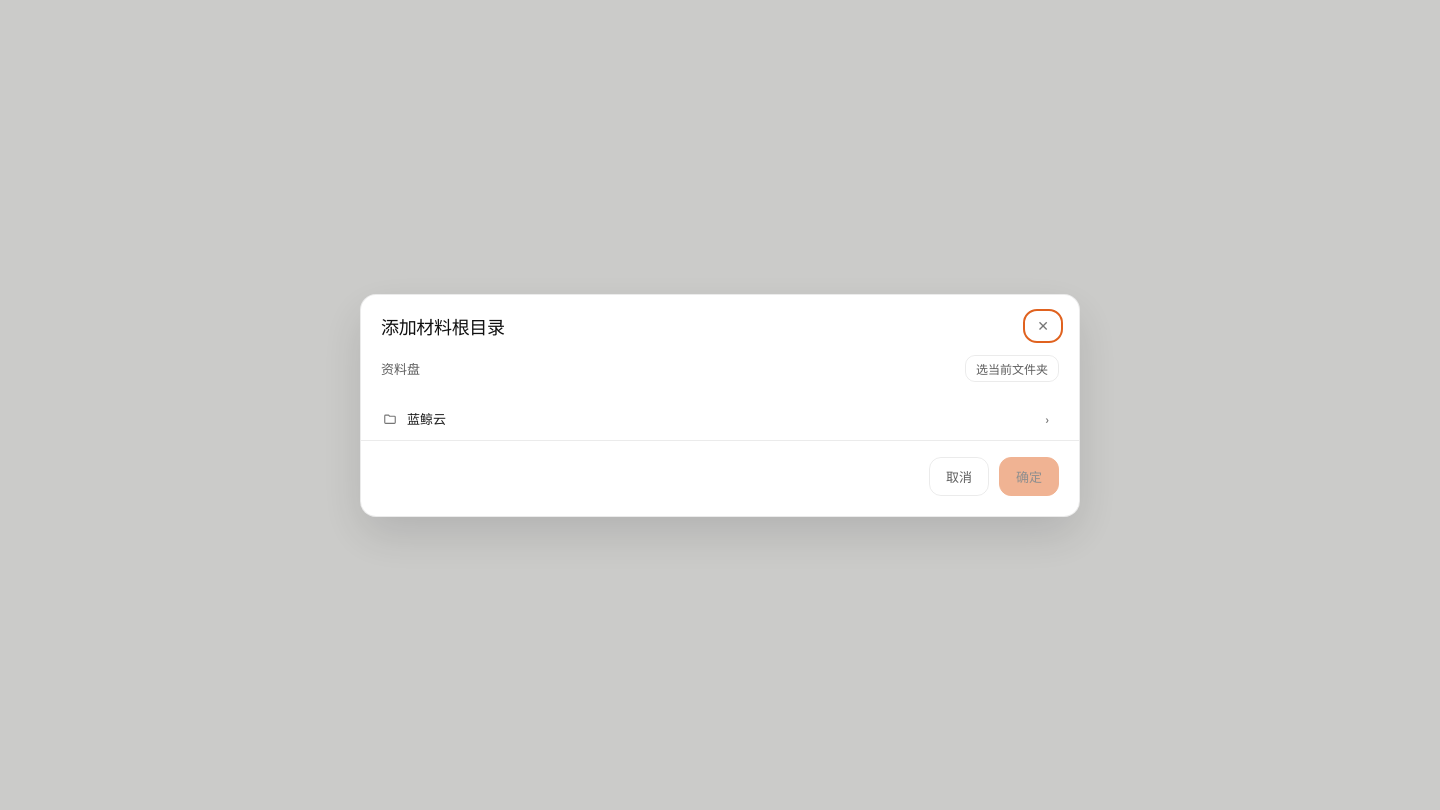
MaterialRootPickerModal › 点行尾「›」进入下一级，不算选中
Expected: the text "蓝鲸云" is shown, x1=383 y1=409 x2=446 y2=428
What coordinates should you click on to do the following:
click the button named "进入 蓝鲸云"
I would click on:
 (1047, 418)
Its box is x1=1037 y1=408 x2=1057 y2=430.
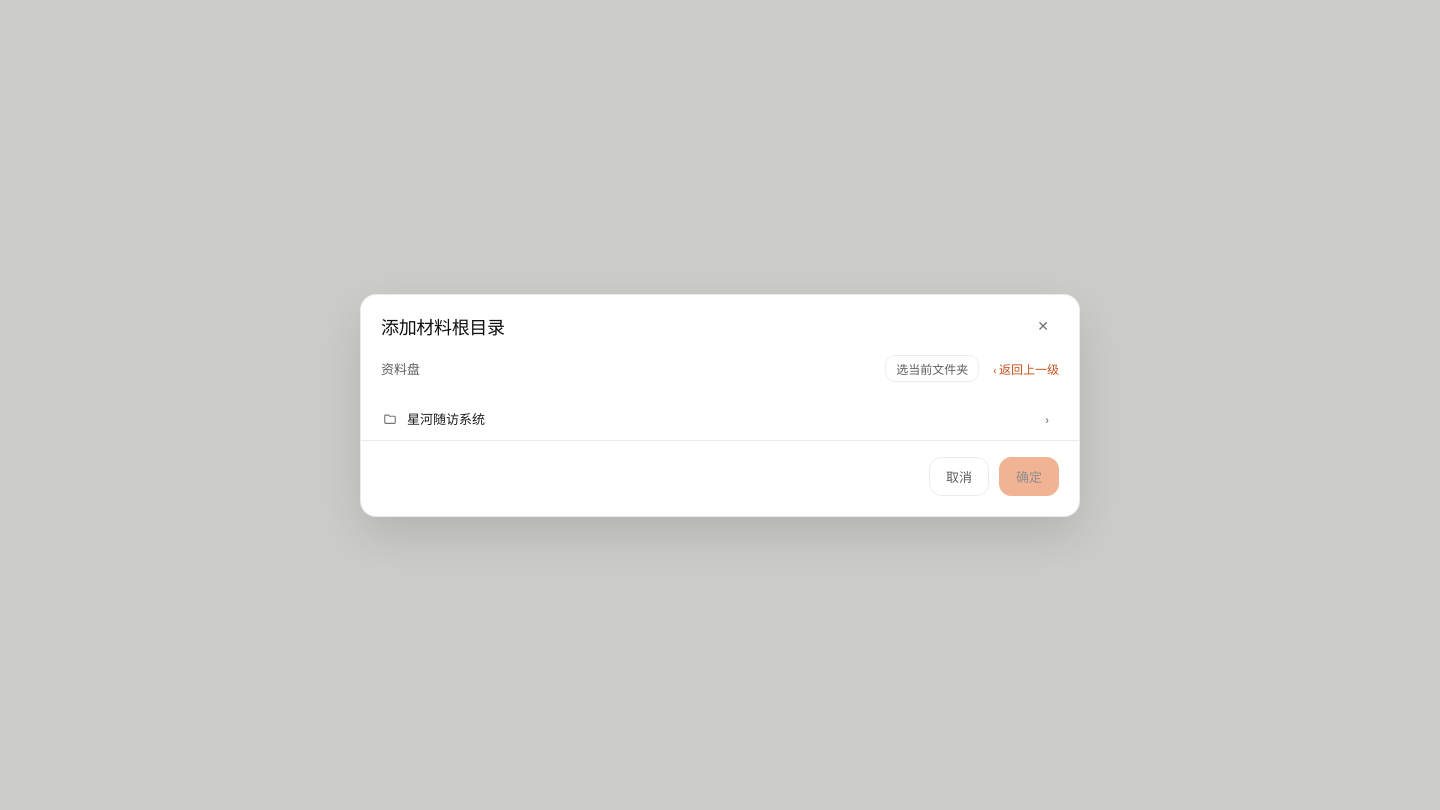
Expected: the button "确定" is disabled, x1=999 y1=456 x2=1059 y2=496
Now the text "星河随访系统" is shown, box x1=383 y1=409 x2=485 y2=428
